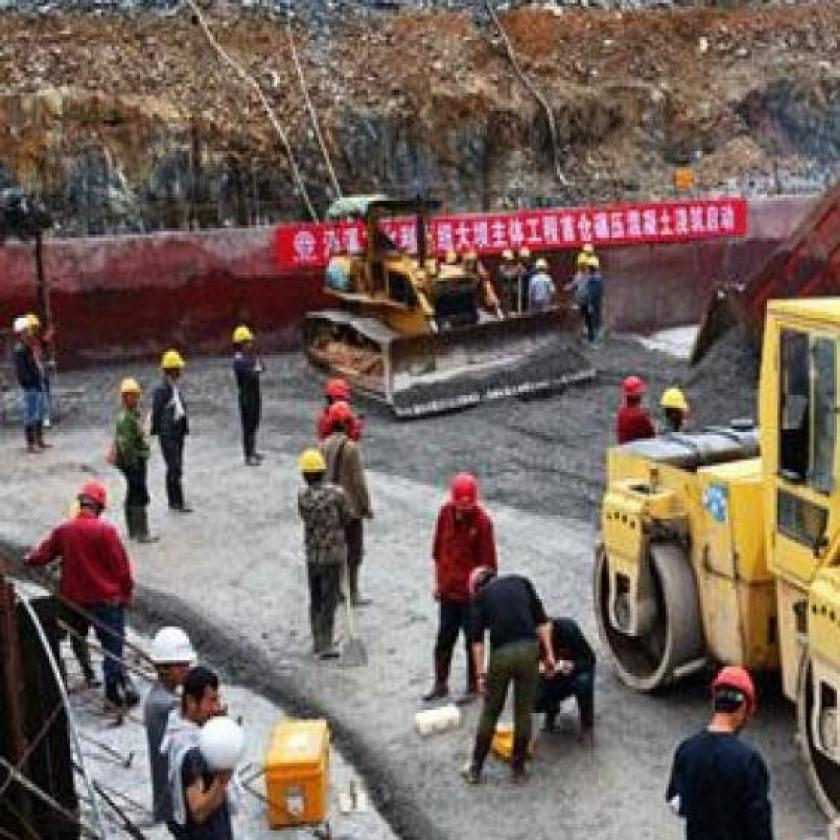Con_casco: (692, 662, 768, 744), (154, 339, 202, 396), (61, 474, 106, 532), (610, 362, 652, 412), (316, 365, 359, 413), (222, 322, 261, 366), (295, 447, 331, 493), (319, 398, 358, 438), (448, 472, 479, 520), (659, 388, 691, 427), (118, 376, 145, 409)
Sin_casco: (178, 663, 221, 724)
